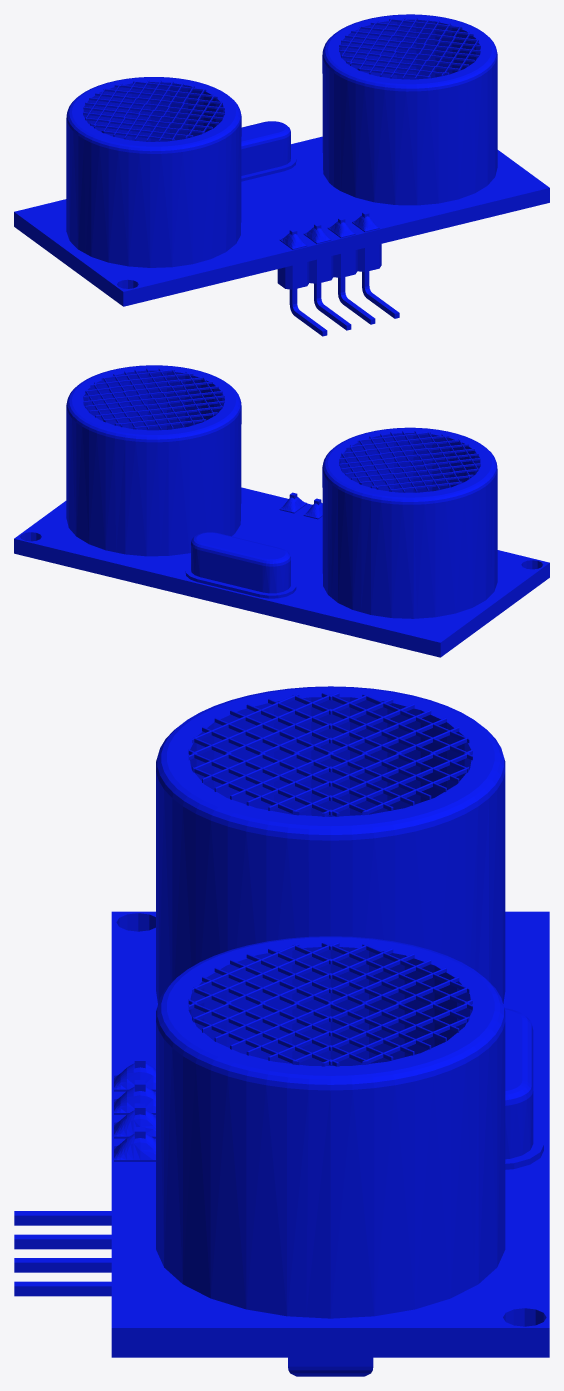
3 views of the same model, one above another, from view 1: azimuth 30°, elevation 25°; view 2: azimuth 150°, elevation 25°; view 3: azimuth 270°, elevation 25° (orthographic). The views are drawn at different scales.
Parts seen in each view (by area): view 1: US1; view 2: US1; view 3: US1.
Boxes of the visible parts, x1=… form: US1: x1=14, y1=14, x2=549, y2=336; US1: x1=14, y1=365, x2=549, y2=657; US1: x1=14, y1=686, x2=549, y2=1376.
Bounding box in the file's own units: 0.045 × 0.0245 × 0.0192.
